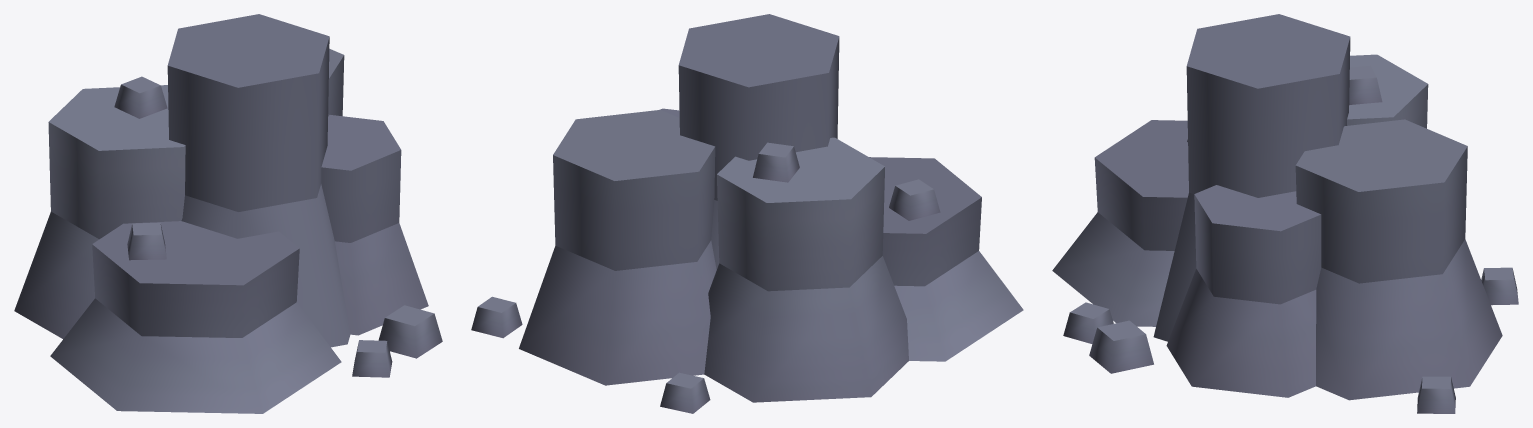
Rendered from rocks-c.glb.
The picture shows the model from 3 angles, left to right: view 1: azimuth 30°, elevation 25°; view 2: azimuth 150°, elevation 25°; view 3: azimuth 270°, elevation 25°; orthographic projection.
Visible parts, largest first — view 1: rocks-c; view 2: rocks-c; view 3: rocks-c.
Part boxes in pixels (x1,y1,x2,y2): rocks-c: (14, 14, 442, 413); rocks-c: (471, 14, 1023, 413); rocks-c: (1052, 14, 1518, 413).
Size of the model in its own units: 3.64 by 2.3 by 3.67.
1 material, 1 textured.
